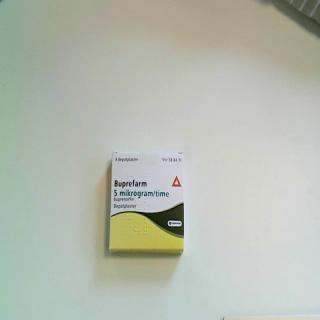buprefarm5ug_hour: (108, 150, 186, 258)
